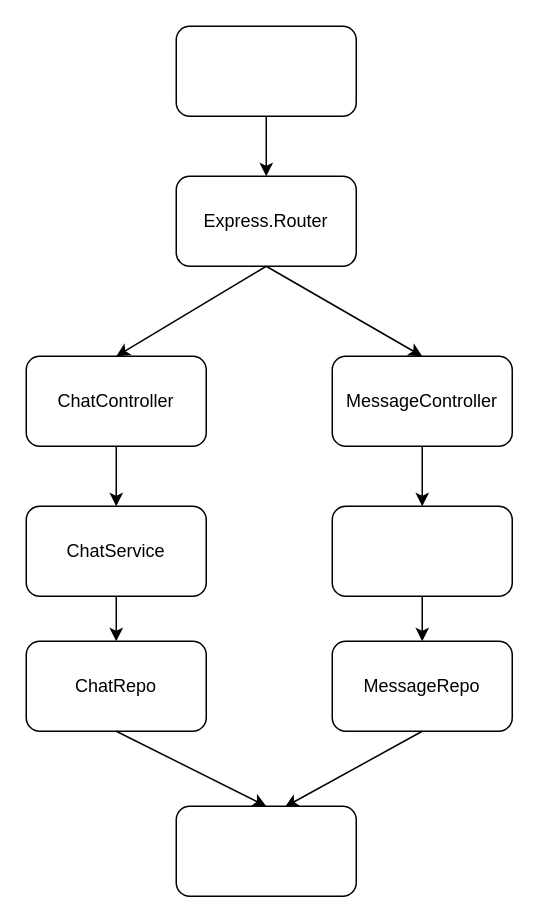
Image size: 539x923. Some labels were removed from this diagram. The box of each missing label's shape, as (x1, y1, x2, y2) in pixels:
DBConnection: (175, 805, 356, 896)
Express.Application: (175, 25, 356, 116)
MessageService: (331, 505, 512, 596)
